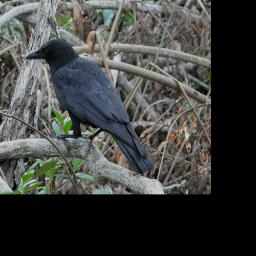Crow: (24, 38, 155, 178)
